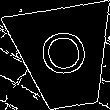O_S: (36, 29, 93, 86)
